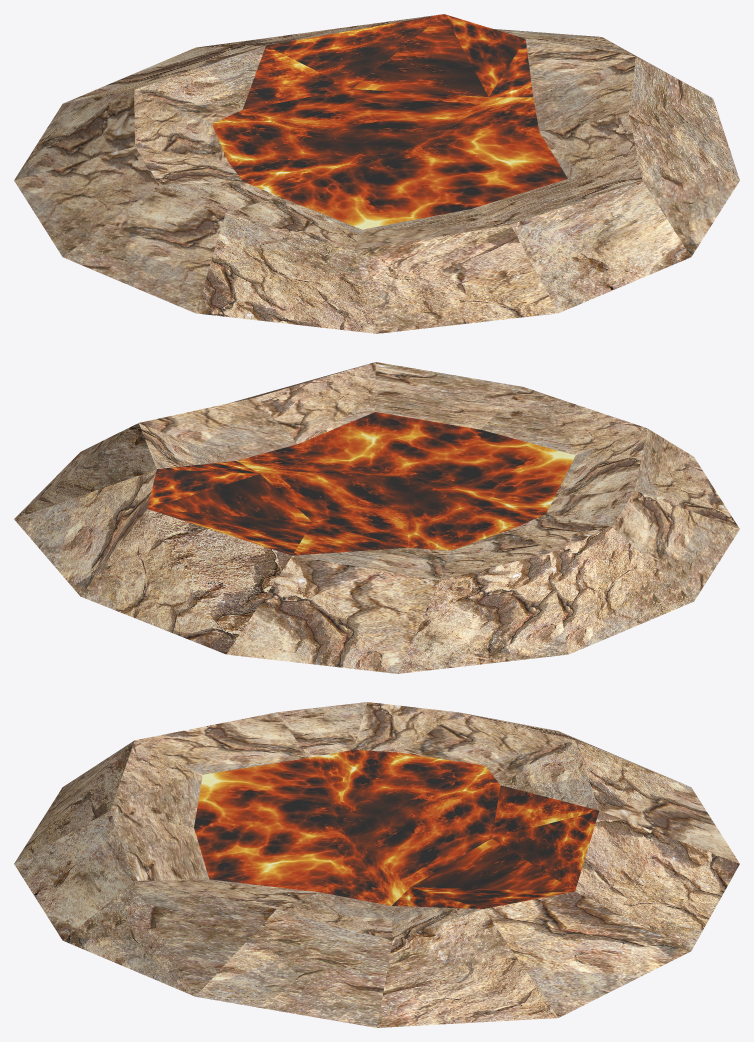
Rendered from destino.obj.
3 views of the same model, one above another, from view 1: azimuth 30°, elevation 25°; view 2: azimuth 150°, elevation 25°; view 3: azimuth 270°, elevation 25° (orthographic). The views are drawn at different scales.
Visible parts, largest first — view 1: mesh1674032168, mesh1674032168_selection; view 2: mesh1674032168_selection, mesh1674032168; view 3: mesh1674032168_selection, mesh1674032168.
Part boxes in pixels (box(x1,y1,x2,y2)): mesh1674032168: box(134, 14, 642, 250); mesh1674032168_selection: box(14, 14, 739, 333); mesh1674032168_selection: box(14, 365, 739, 673); mesh1674032168: box(139, 362, 647, 580); mesh1674032168_selection: box(14, 713, 739, 1027); mesh1674032168: box(110, 702, 599, 940).
Size of the model in its own units: 1.86 by 0.1461 by 1.8.
3 materials, 2 textured.
